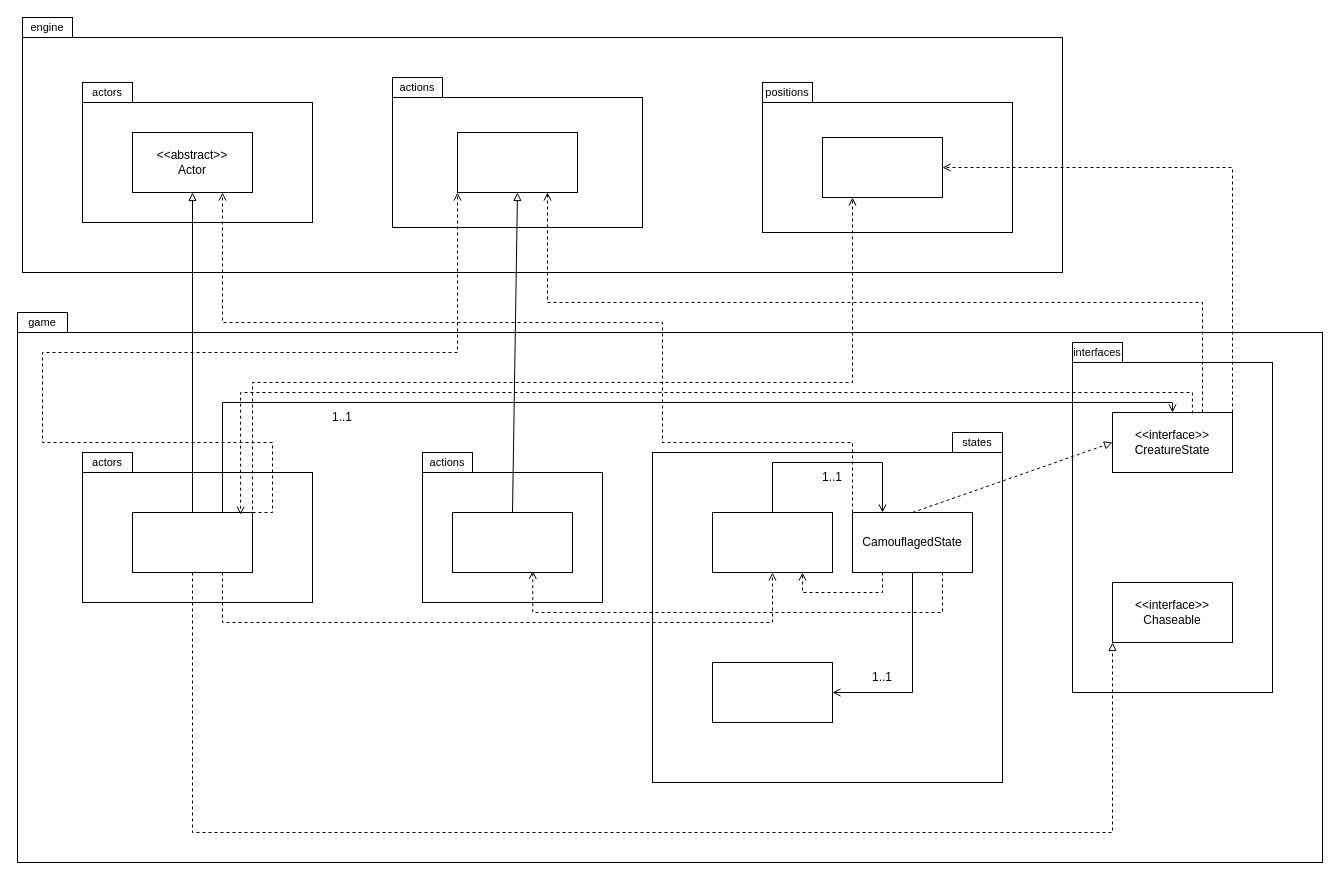
Image size: 1340x880. Some labels were removed from this diagram. Here are the shapes that lost their labels. From the top down, the box of each, then its label:
(456, 132, 578, 192): <<abstract>> Action
(822, 136, 942, 198): GameMap
(132, 512, 252, 572): SporeBeast
(452, 512, 572, 572): DoNothingAction
(712, 512, 832, 572): BaseStates
(712, 662, 832, 722): ThreatScanner
